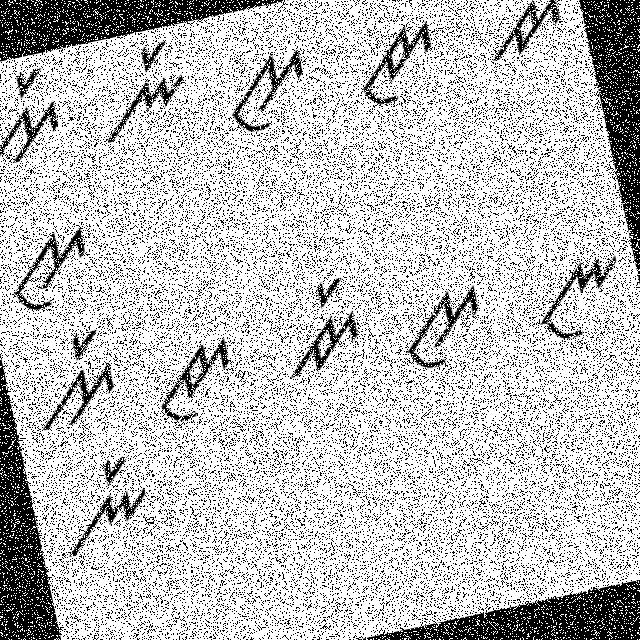jar: (264, 271, 372, 388), (469, 0, 574, 69)
jaw: (137, 327, 247, 431), (342, 9, 446, 112)
nyar: (44, 444, 162, 561), (82, 33, 198, 148)
nyaw: (524, 242, 636, 346)
sar: (22, 322, 125, 442), (0, 62, 72, 177)
saw: (0, 212, 109, 327), (212, 31, 321, 140), (389, 274, 496, 380)
